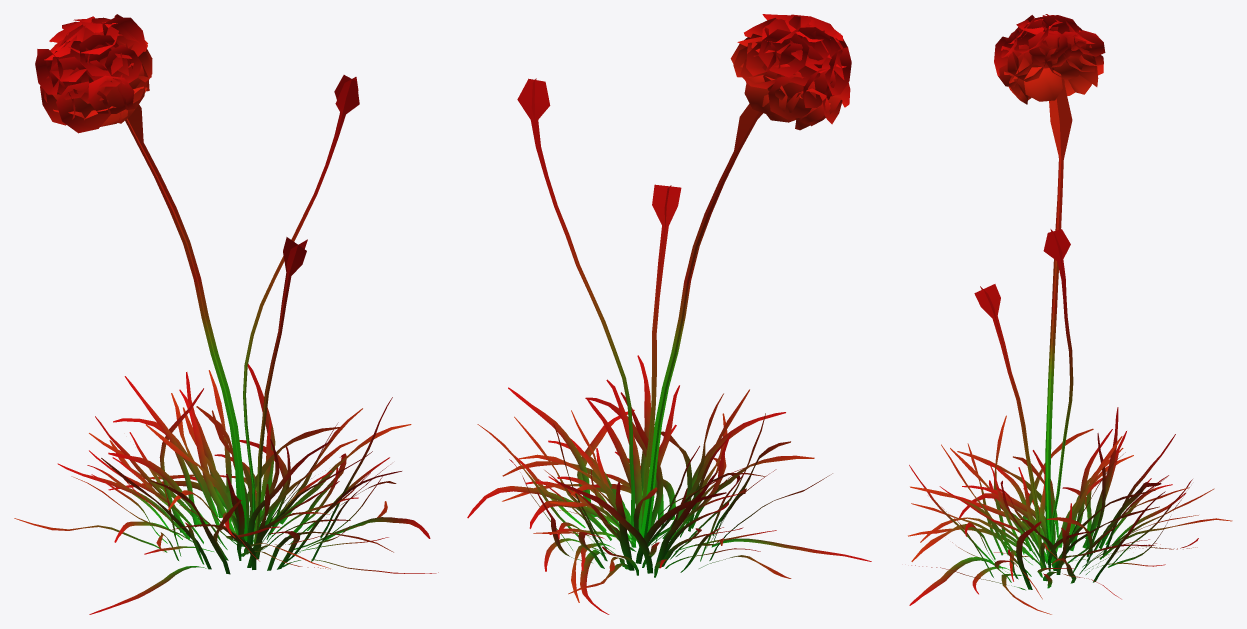
File: Var7_LOD0.fbx
3 views of the same model, side by side, from view 1: azimuth 30°, elevation 25°; view 2: azimuth 150°, elevation 25°; view 3: azimuth 270°, elevation 25° (orthographic). The views are drawn at different scales.
Parts seen in each view (by area): view 1: _08kw_Var7_LOD0; view 2: _08kw_Var7_LOD0; view 3: _08kw_Var7_LOD0.
Boxes of the visible parts, x1=… form: _08kw_Var7_LOD0: x1=14, y1=14, x2=438, y2=614; _08kw_Var7_LOD0: x1=467, y1=14, x2=871, y2=614; _08kw_Var7_LOD0: x1=908, y1=14, x2=1232, y2=614.
Size of the model in its own units: 10.64 by 15.85 by 9.77.
